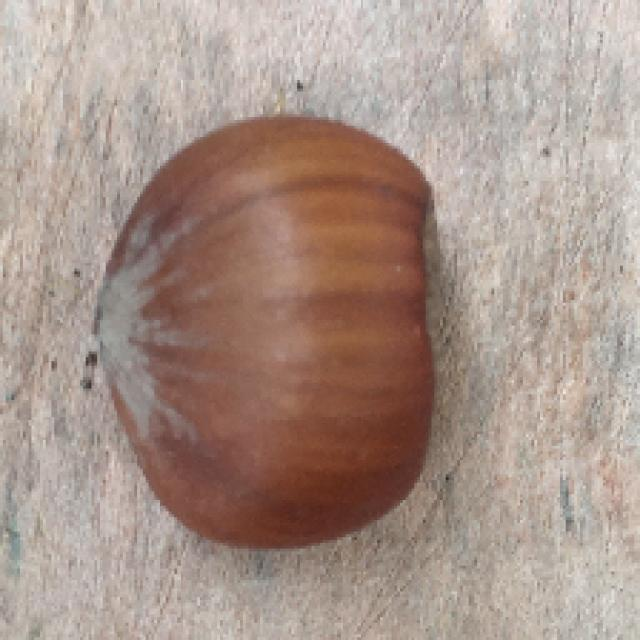qualityHazelnut: (95, 106, 458, 554)
